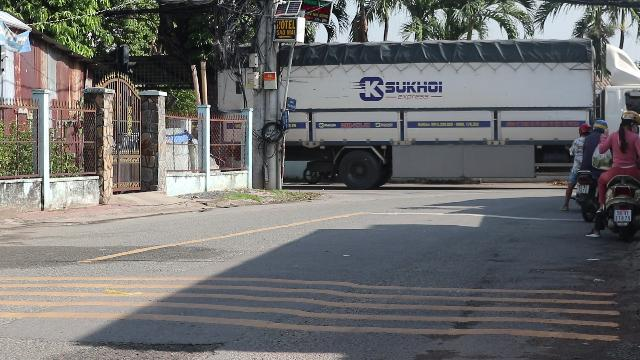helmet: (618, 110, 638, 130)
licenseplate: (615, 210, 631, 221)
motorcyclist: (593, 109, 639, 240)
